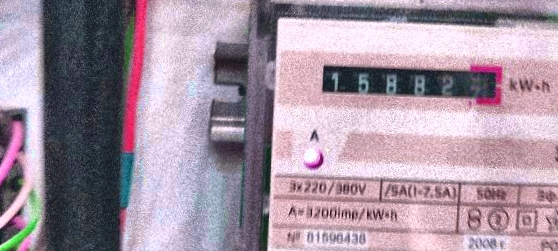1: (327, 68, 341, 91)
2: (438, 73, 454, 97)
5: (355, 69, 369, 94)
7: (468, 80, 480, 97)
8: (411, 72, 425, 96), (383, 72, 396, 95)
screen: (312, 54, 510, 113)
